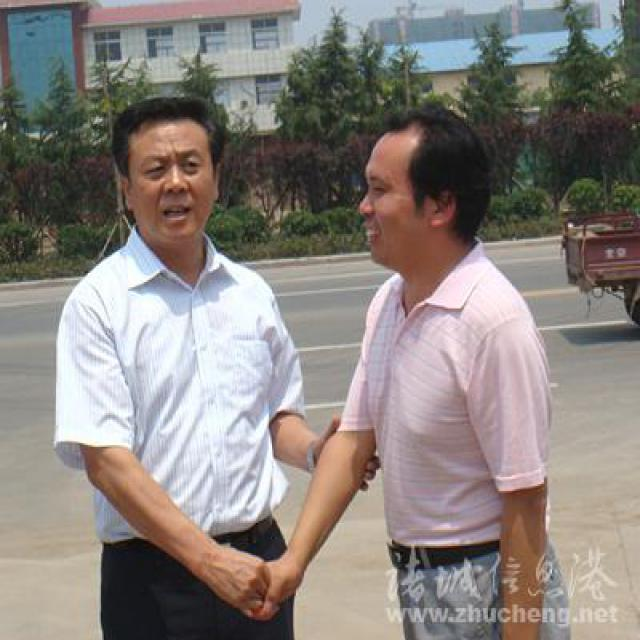head: (372, 107, 500, 292), (110, 85, 223, 257)
person: (42, 88, 329, 632), (315, 91, 585, 625)
